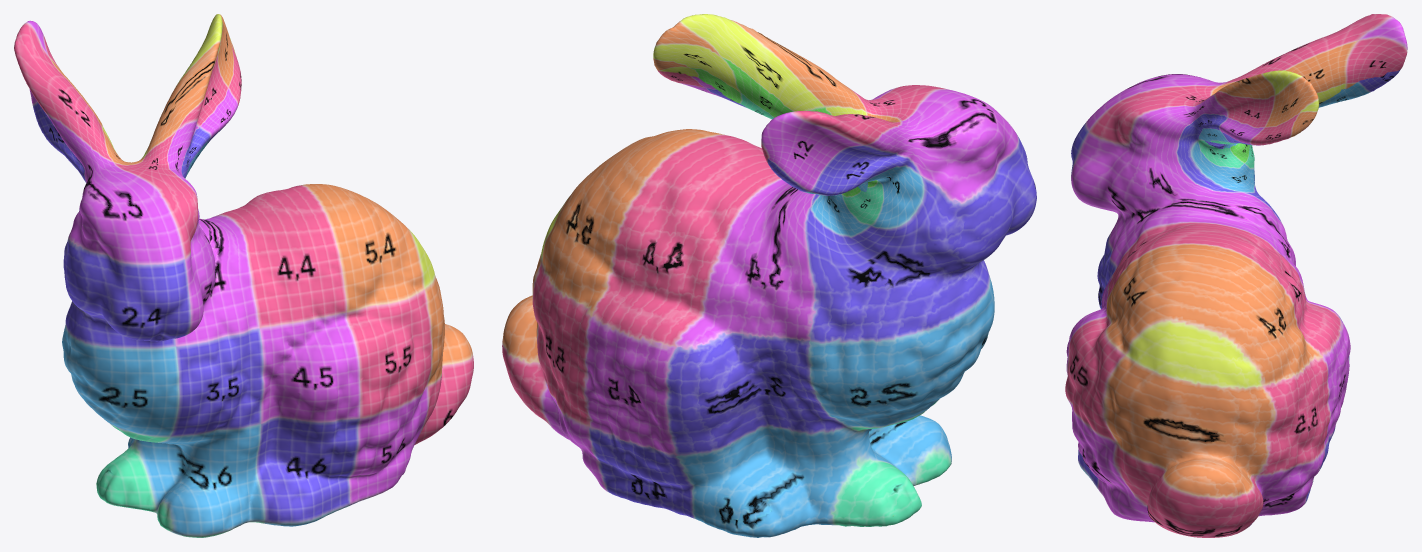
File: Bunny.obj
3 views of the same model, side by side, from view 1: azimuth 30°, elevation 25°; view 2: azimuth 150°, elevation 25°; view 3: azimuth 270°, elevation 25° (orthographic). The views are drawn at different scales.
Parts seen in each view (by area): view 1: mesh; view 2: mesh; view 3: mesh.
Part boxes in pixels (x1,y1,x2,y2): mesh: (14,14,473,537); mesh: (502,14,1036,537); mesh: (1065,14,1407,537).
Bounding box in the file's own units: 1.61 × 1.62 × 1.23.
1 material, 1 textured.
